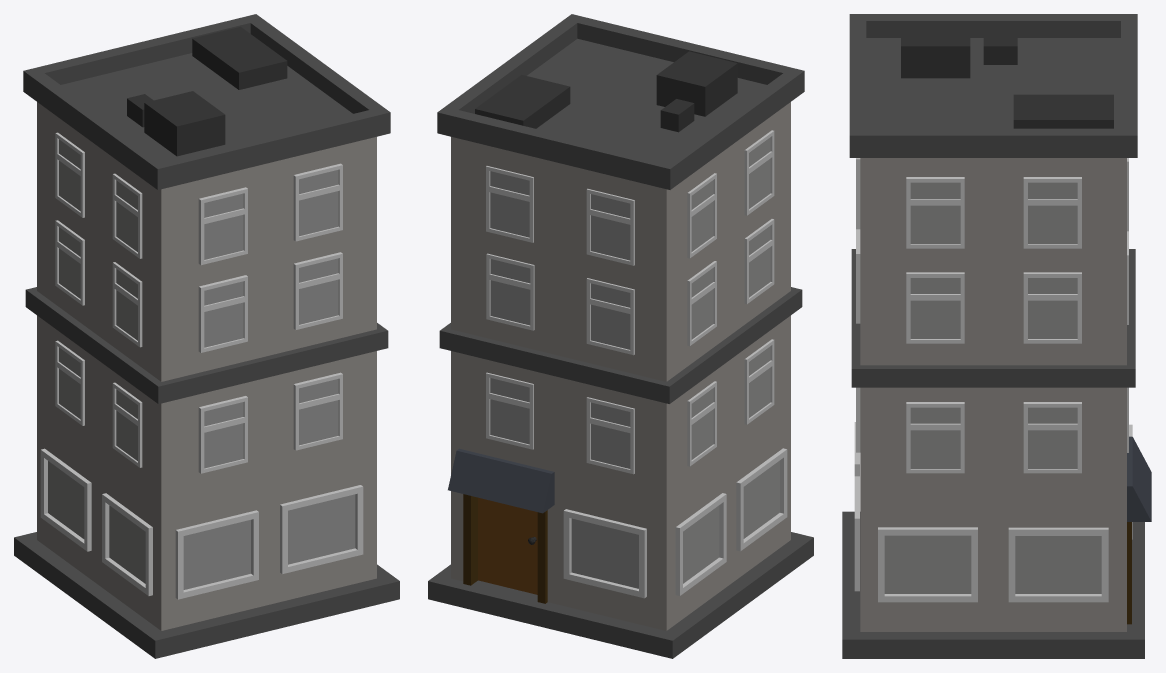
The model's file is Buliding1.fbx.
The picture shows the model from 3 angles, left to right: view 1: azimuth 30°, elevation 25°; view 2: azimuth 150°, elevation 25°; view 3: azimuth 270°, elevation 25°; orthographic projection. The views are drawn at different scales.
Parts seen in each view (by area): view 1: Buliding; view 2: Buliding; view 3: Buliding.
Boxes of the visible parts, x1,y1,x2,y2 form: Buliding: (14,14,399,658); Buliding: (428,14,813,658); Buliding: (842,14,1151,658).
Bounding box in the file's own units: 3008 × 3075 × 5879.
